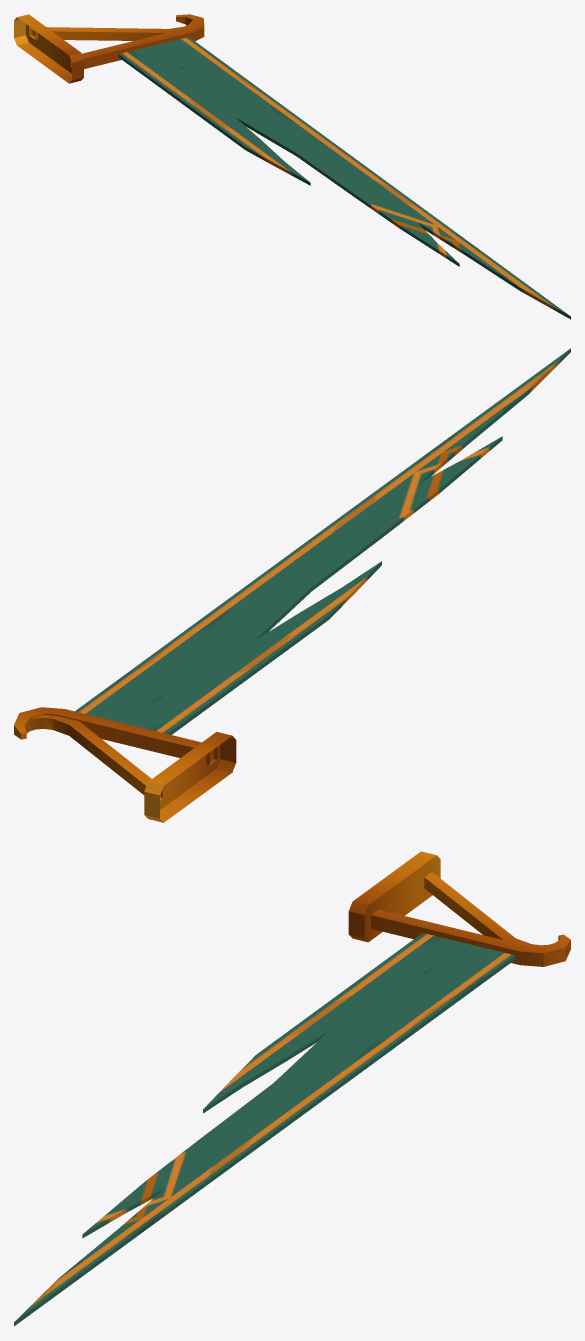
The model's file is Wall Flag 04.FBX.
3 views of the same model, one above another, from view 1: azimuth 30°, elevation 25°; view 2: azimuth 150°, elevation 25°; view 3: azimuth 330°, elevation 25° (orthographic). The views are drawn at different scales.
Visible parts, largest first — view 1: Wall Flag 04; view 2: Wall Flag 04; view 3: Wall Flag 04.
Part boxes in pixels (left/top/right/bottom): Wall Flag 04: left=14, top=14, right=570, bottom=319; Wall Flag 04: left=14, top=348, right=570, bottom=822; Wall Flag 04: left=14, top=851, right=570, bottom=1326.
Size of the model in its own units: 98.39 by 17.87 by 499.
